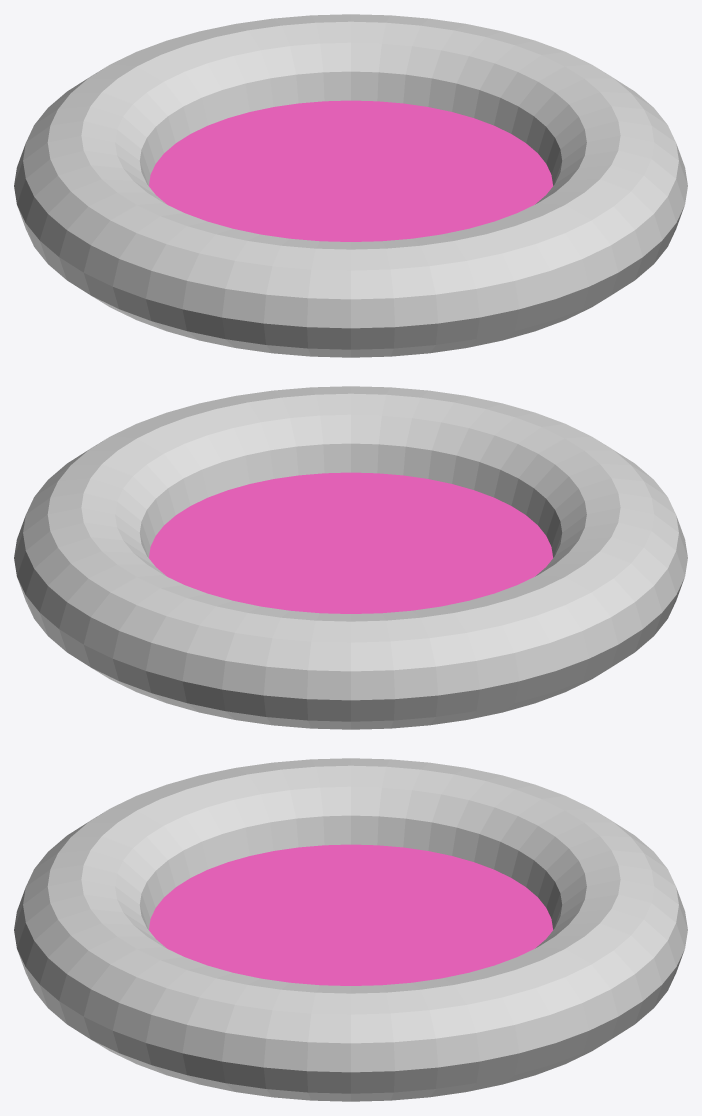
File: PinkGunPlatform.fbx
The picture shows the model from 3 angles, top to bottom: view 1: azimuth 30°, elevation 25°; view 2: azimuth 150°, elevation 25°; view 3: azimuth 270°, elevation 25°; orthographic projection.
Visible parts, largest first — view 1: Torus, Plane; view 2: Torus, Plane; view 3: Torus, Plane.
Part boxes in pixels (x1,y1,x2,y2): Torus: (14,14,687,357); Plane: (149,100,552,241); Torus: (14,386,687,729); Plane: (149,472,552,613); Torus: (14,758,687,1101); Plane: (149,844,552,985).
Size of the model in its own units: 250 by 41.18 by 250.
